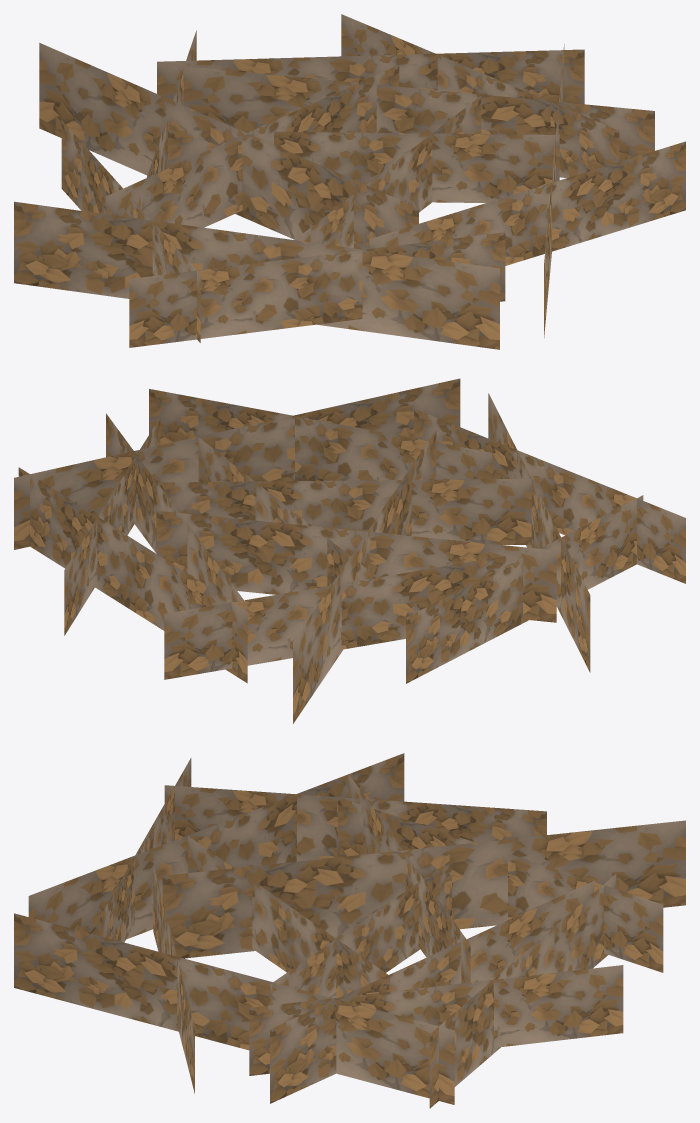
The model's file is meadow_SM_Env_Grass_Short_Clump_03.gltf.
The picture shows the model from 3 angles, top to bottom: view 1: azimuth 30°, elevation 25°; view 2: azimuth 150°, elevation 25°; view 3: azimuth 270°, elevation 25°; orthographic projection. The views are drawn at different scales.
Visible parts, largest first — view 1: SM_Env_Grass_Short_Clump_03_LOD0; view 2: SM_Env_Grass_Short_Clump_03_LOD0; view 3: SM_Env_Grass_Short_Clump_03_LOD0.
Part boxes in pixels (left/top/right/bottom): SM_Env_Grass_Short_Clump_03_LOD0: left=14, top=14, right=685, bottom=349; SM_Env_Grass_Short_Clump_03_LOD0: left=14, top=378, right=685, bottom=723; SM_Env_Grass_Short_Clump_03_LOD0: left=14, top=753, right=685, bottom=1108.
Size of what is drawn, in the model's own units: 1.72 by 0.2684 by 1.73.
1 material, 1 textured.
